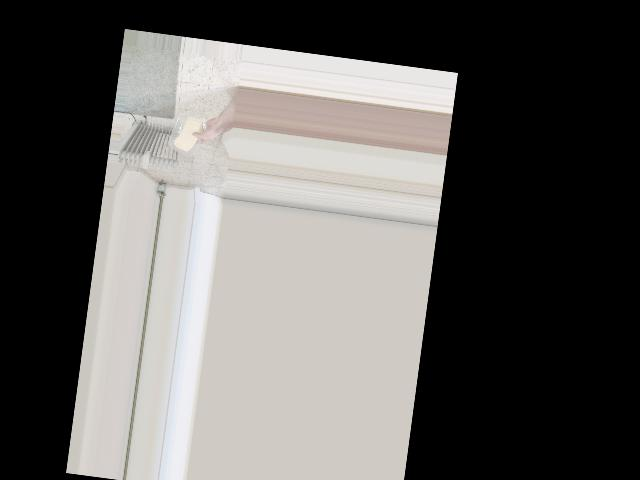cheese: (171, 112, 205, 156)
